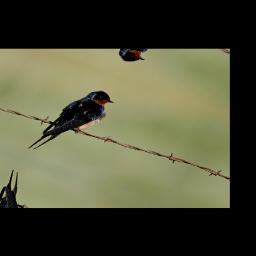Swallow: (25, 80, 120, 164)
